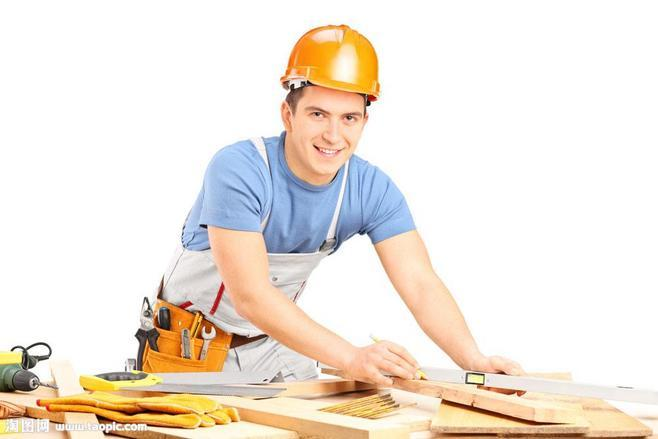helmet: (283, 24, 384, 102)
